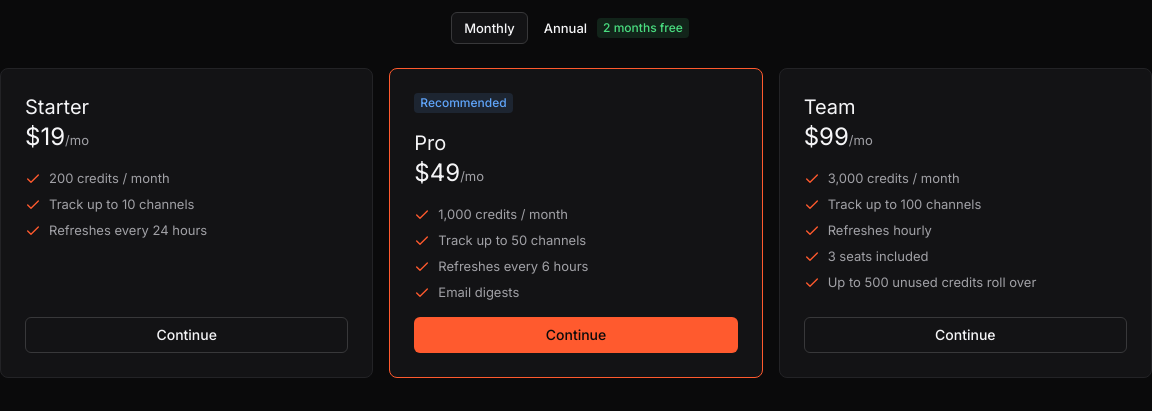
TierCards › switches to the per-month-equivalent annual price when Annual is clicked
The width and height of the screenshot is (1152, 411).
What coordinates should you click on to do the following:
click the button "Annual 2 months free"
I would click on:
 (616, 28)
Its box is top-left (532, 12), bottom-right (701, 44).
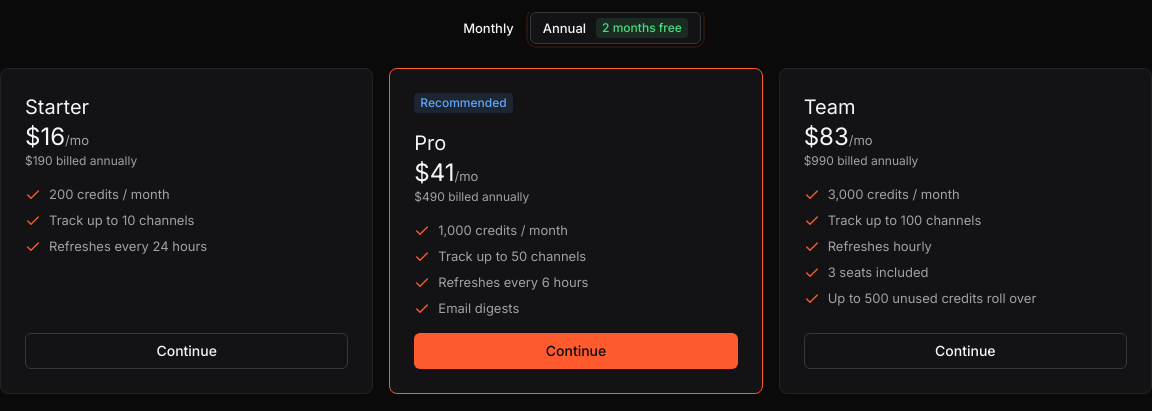
Now the text "$41" is shown, box top-left (414, 158), bottom-right (478, 187)
Now the text "$490 billed annually" is shown, box top-left (414, 189), bottom-right (529, 204)
